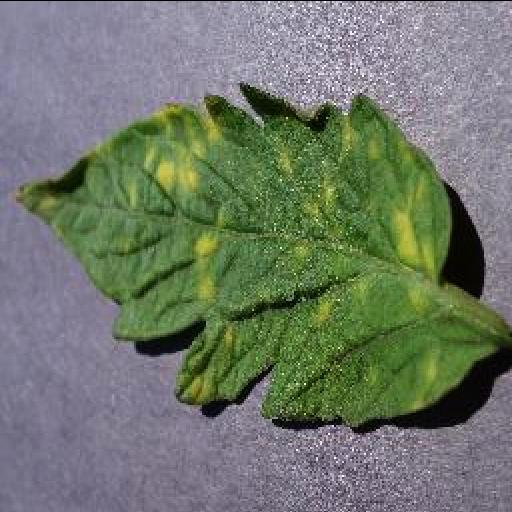disease_tomato: (7, 78, 485, 424)
